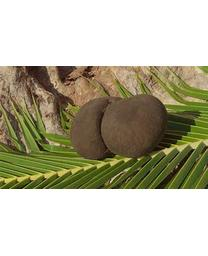coconut: (100, 94, 169, 159), (69, 97, 126, 160)
